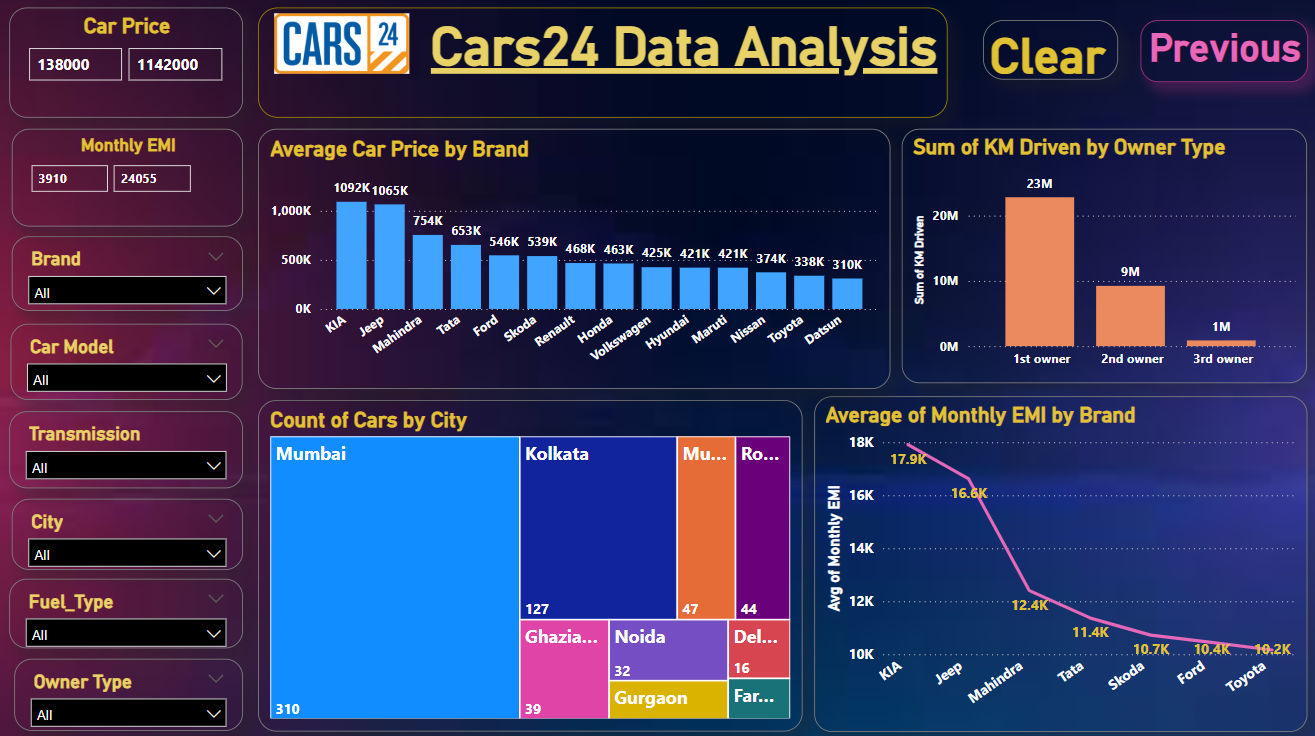

What the dashboard file says about the page in this screenshot:
{"tool":"powerbi","page":{"name":"Cars Details","canvas":[1280,720],"ordinal":1},"visuals":[{"type":"textbox","title":"       Cars24 Data Analysis ","box":[250.9,12.1,666,106.2],"z":0},{"type":"image","box":[262.1,12.3,140,70],"z":1000},{"type":"slicer","fields":{"Values":["Cars24_data.Brand"]},"box":[13.3,232.8,223.2,72.4],"z":2000},{"type":"slicer","fields":{"Values":["Cars24_data.Car_Model"]},"box":[12.1,317.3,224.4,73.6],"z":3000},{"type":"slicer","title":"Car Price","fields":{"Values":["Cars24_data.Car_Price"]},"box":[10.9,12.1,225.6,106.2],"z":4000},{"type":"slicer","fields":{"Values":["Cars24_data.Car_Transmission"]},"box":[10.9,401.7,225.6,74.8],"z":5000},{"type":"slicer","fields":{"Values":["Cars24_data.City"]},"box":[13.3,486.2,223.2,68.8],"z":6000},{"type":"slicer","fields":{"Values":["Cars24_data.Fuel_Type"]},"box":[10.9,563.4,225.6,67.6],"z":7000},{"type":"slicer","fields":{"Values":["Cars24_data.Owner_Type"]},"box":[15.7,640.6,220.8,70],"z":8000},{"type":"slicer","title":"Monthly EMI","fields":{"Values":["Cars24_data.Monthly_EMI"]},"box":[13.3,129.1,223.2,94.1],"z":9000},{"type":"shape","title":"Clear","box":[950.7,24.1,130.3,57.9],"z":17000},{"type":"shape","title":"Previous ","box":[1102.7,24.1,161.7,60.3],"z":18000},{"type":"treemap","title":"Count of Cars by City","fields":{"Values":["CountNonNull(Cars24_data.Registration_ID)"],"Group":["Cars24_data.City"]},"box":[251.1,391.1,525.6,319.7],"z":18001},{"type":"clusteredColumnChart","title":"Sum of KM Driven by Owner Type","fields":{"Category":["Cars24_data.Owner_Type"],"Y":["Sum(Cars24_data.KM_Driven)"]},"box":[872.7,129,391.1,245.6],"z":18002},{"type":"lineChart","title":"Average of Monthly EMI by Brand","fields":{"Category":["Cars24_data.Brand"],"Y":["Avg(Cars24_data.Monthly_EMI)"]},"box":[787.7,387,476.2,323.8],"z":18004},{"type":"columnChart","title":"Average Car Price by Brand","fields":{"Category":["Cars24_data.Brand"],"Y":["Avg(Cars24_data.Car_Price)"]},"box":[250.9,129.1,610.5,250.9],"z":18005}]}

Visuals, with their boxes in screenshot pixels (x1, y1, x2, y2), scaled from the page's 1280x720 canvas onto the 1315x736 screenshot:
"       Cars24 Data Analysis " textbox: x1=258 y1=12 x2=942 y2=121
image: x1=269 y1=13 x2=413 y2=84
slicer - Cars24_data.Brand: x1=14 y1=238 x2=243 y2=312
slicer - Cars24_data.Car_Model: x1=12 y1=324 x2=243 y2=400
"Car Price" slicer: x1=11 y1=12 x2=243 y2=121
slicer - Cars24_data.Car_Transmission: x1=11 y1=411 x2=243 y2=487
slicer - Cars24_data.City: x1=14 y1=497 x2=243 y2=567
slicer - Cars24_data.Fuel_Type: x1=11 y1=576 x2=243 y2=645
slicer - Cars24_data.Owner_Type: x1=16 y1=655 x2=243 y2=726
"Monthly EMI" slicer: x1=14 y1=132 x2=243 y2=228
"Clear" shape: x1=977 y1=25 x2=1111 y2=84
"Previous " shape: x1=1133 y1=25 x2=1299 y2=86
"Count of Cars by City" treemap: x1=258 y1=400 x2=798 y2=727
"Sum of KM Driven by Owner Type" clusteredColumnChart: x1=897 y1=132 x2=1298 y2=383
"Average of Monthly EMI by Brand" lineChart: x1=809 y1=396 x2=1298 y2=727
"Average Car Price by Brand" columnChart: x1=258 y1=132 x2=885 y2=388
